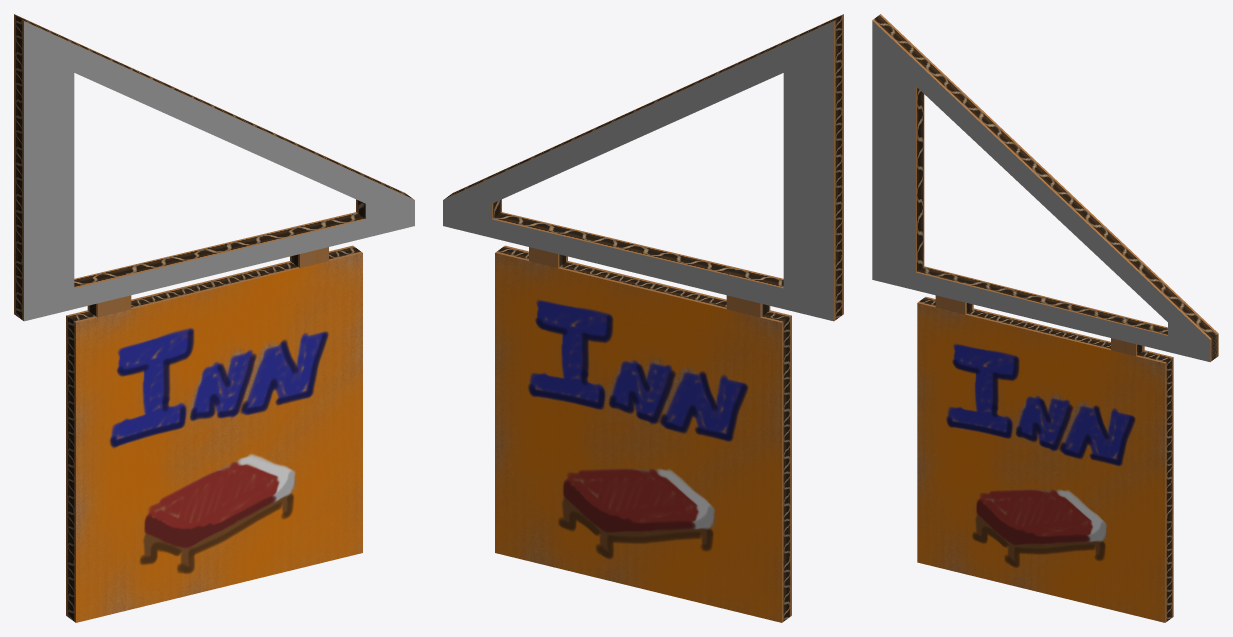
Rendered from InnHangingSign.fbx.
The picture shows the model from 3 angles, left to right: view 1: azimuth 30°, elevation 25°; view 2: azimuth 150°, elevation 25°; view 3: azimuth 330°, elevation 25°; orthographic projection. The views are drawn at different scales.
Parts seen in each view (by area): view 1: pCube15, pCube14; view 2: pCube15, pCube14; view 3: pCube15, pCube14.
Part boxes in pixels (x1,y1,x2,y2): pCube15: (66, 245, 362, 622); pCube14: (14, 14, 414, 321); pCube15: (495, 245, 791, 622); pCube14: (443, 14, 843, 321); pCube15: (917, 297, 1173, 622); pCube14: (872, 14, 1218, 361).
Size of the model in its own units: 1.05 by 1.57 by 0.0461.
